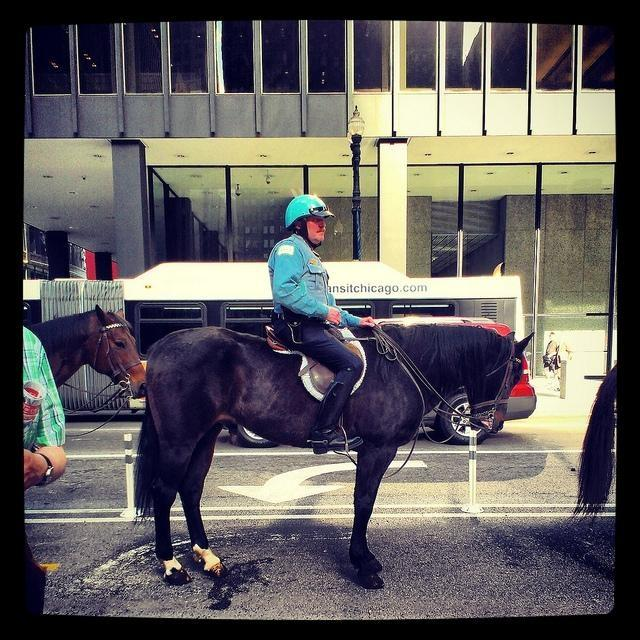bus: (23, 259, 543, 420)
car: (414, 324, 536, 444)
